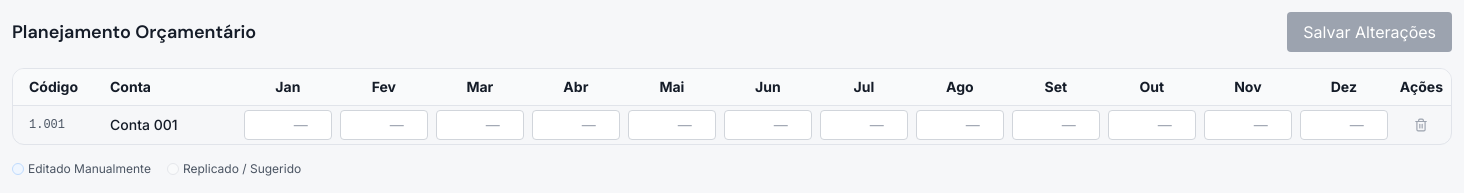
Test case: BudgetGrid › deve habilitar o botao salvar apenas quando houver mudancas
Check: the button "Salvar Alterações" is disabled, box [1287,12,1452,52]
Type "500" into the 1st number field with placeholder "—" at (288, 125), box [244,110,332,140]
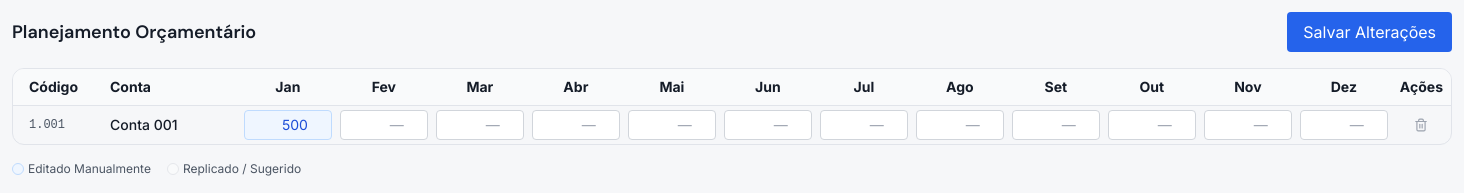
Check: the button "Salvar Alterações" is enabled, box [1287,12,1452,52]
